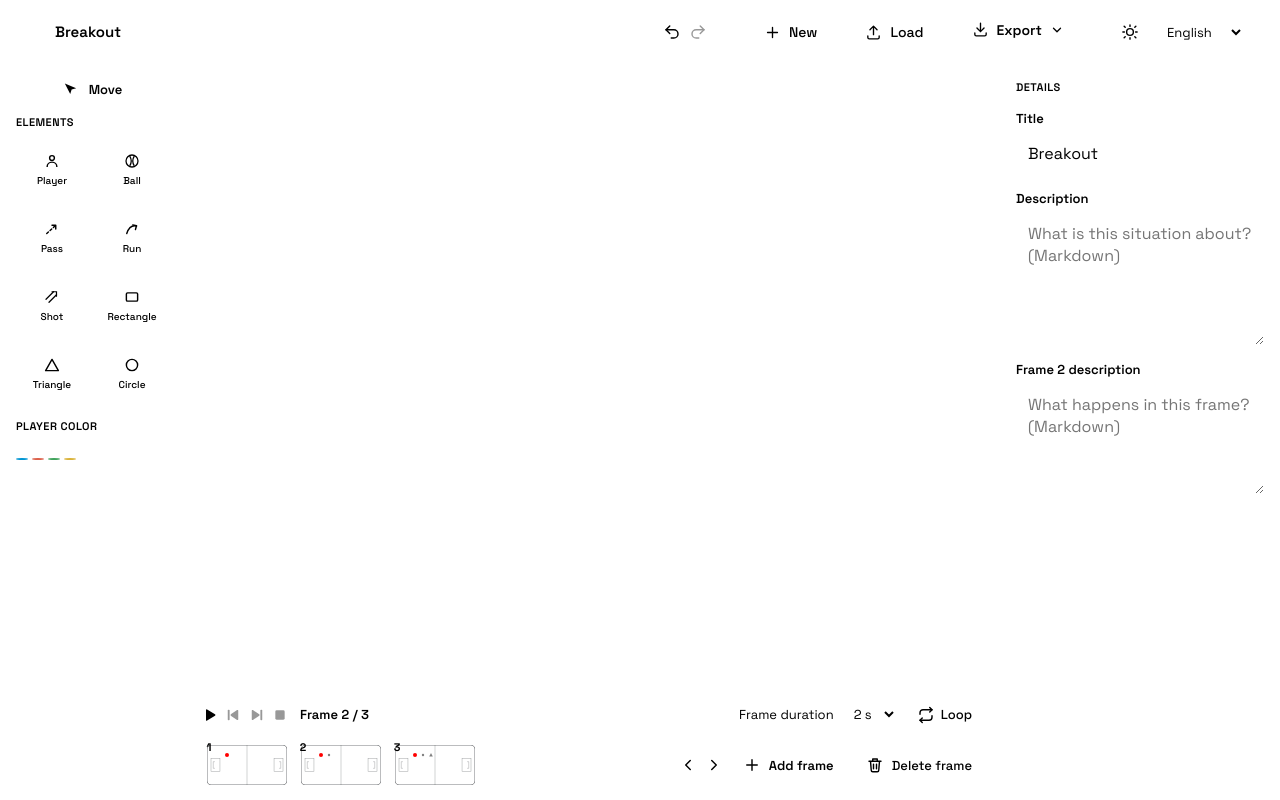
Test: editor page: slideshow playback › the situation is replaced › a new situation stops playback
The image size is (1280, 800).
Step 1. Click the button named "Play" → {"x": 209, "y": 714}, box x1=200 y1=706 x2=218 y2=724
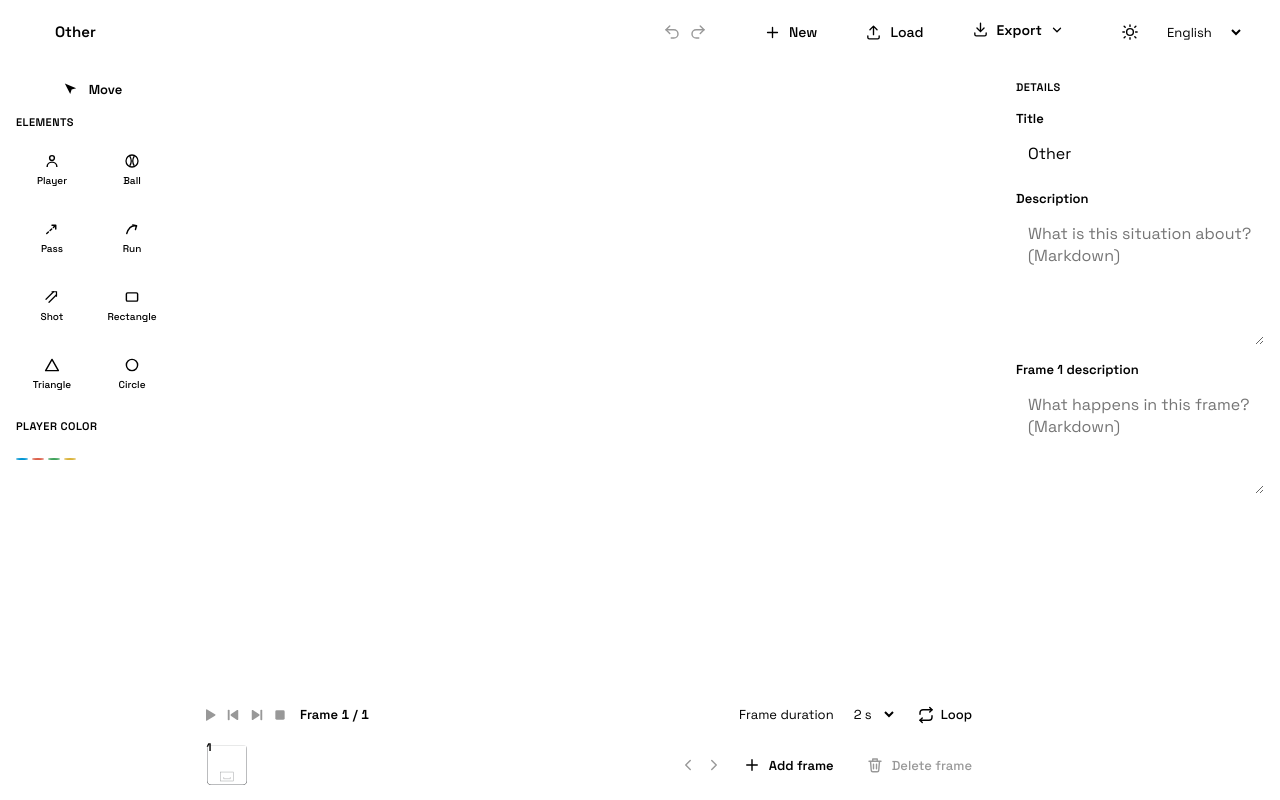
Expected: the button named "Stop" is disabled, x1=272 y1=706 x2=288 y2=722
Expected: the button named "Play" is disabled, x1=200 y1=706 x2=218 y2=724
Expected: the text "Frame" reads "Frame 1 / 1", x1=300 y1=706 x2=369 y2=723
